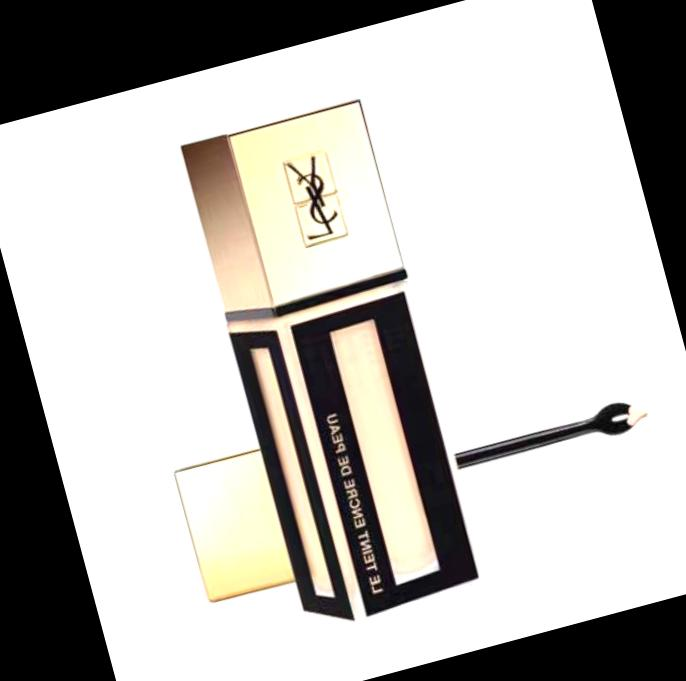cosmetic: (175, 99, 489, 637)
